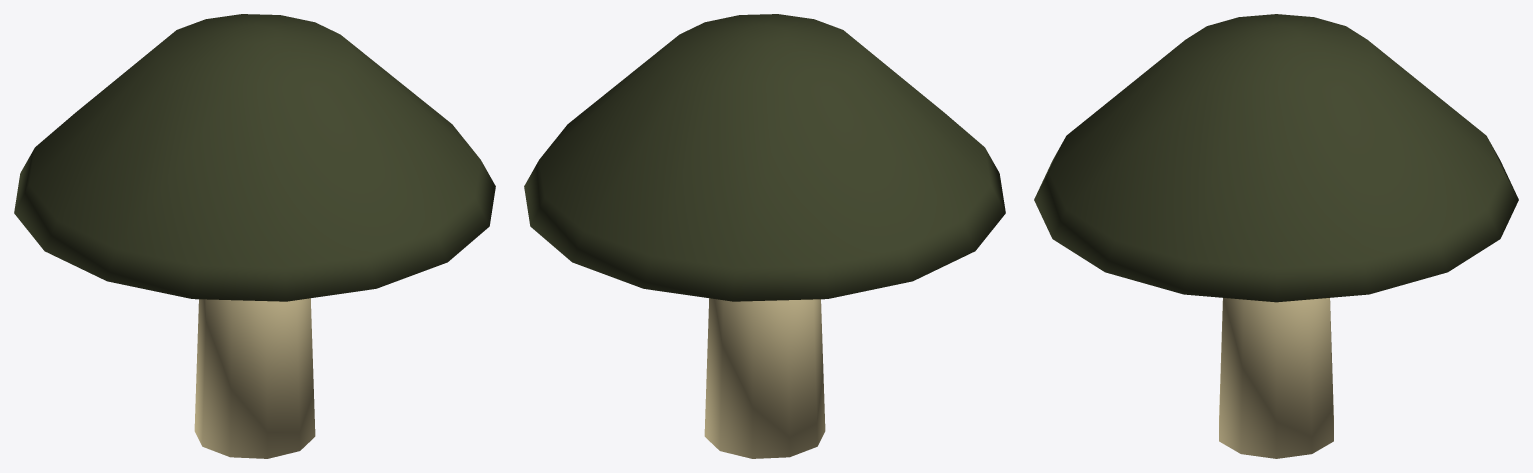
Rendered from item_item159.glb.
The picture shows the model from 3 angles, left to right: view 1: azimuth 30°, elevation 25°; view 2: azimuth 150°, elevation 25°; view 3: azimuth 270°, elevation 25°; orthographic projection.
Visible parts, largest first — view 1: props_item159; view 2: props_item159; view 3: props_item159.
Boxes of the visible parts, x1=… form: props_item159: x1=14, y1=14, x2=495, y2=458; props_item159: x1=524, y1=14, x2=1005, y2=458; props_item159: x1=1034, y1=14, x2=1518, y2=458.
Size of the model in its own units: 0.64 by 0.58 by 0.64.
